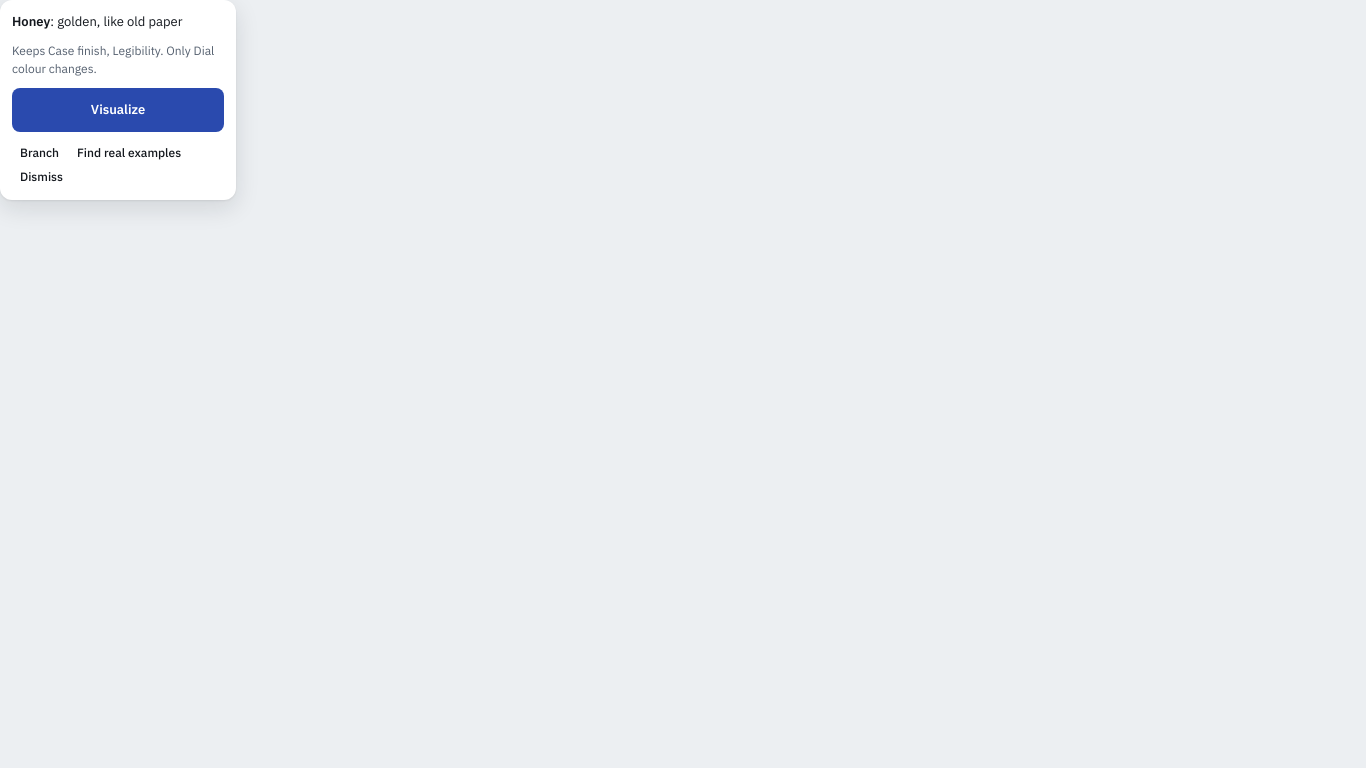
it: AxisPopover › a refused visualize puts the option back and says why
What coordinates should you click on to do the following:
click the button "Visualize"
I would click on:
 (118, 110)
Its box is [12,88,224,132].
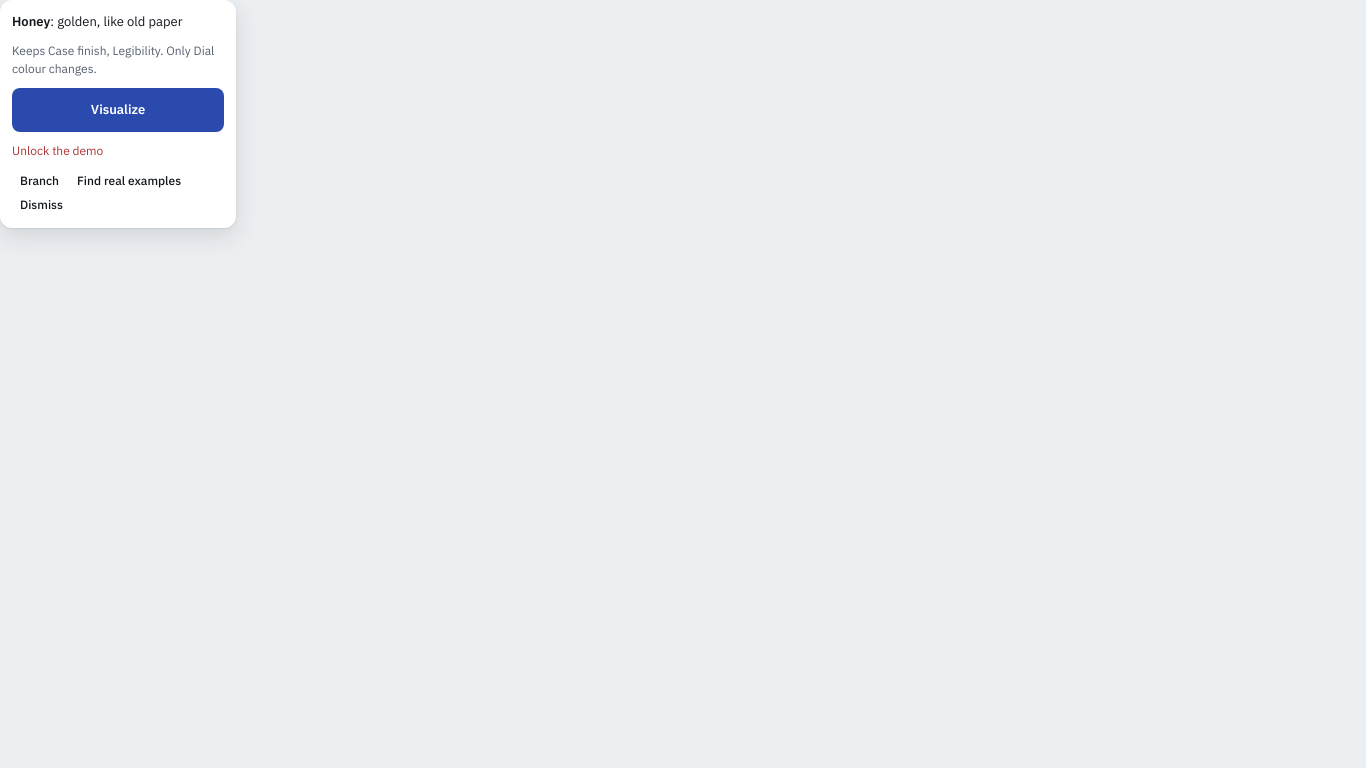
Expected: the message reads "Unlock the demo", [12,142,103,158]
